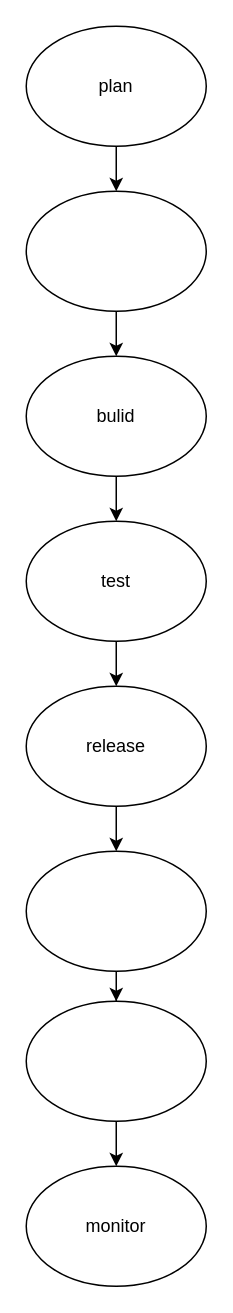
The diagram is 233 pixels wide and 1313 high, and some of its shapes have lost their labels. Here are the shapes that lost their labels. From the top down, the box of each, then its label:
(25, 190, 206, 311): develop
(25, 850, 206, 971): deploy
(25, 1000, 206, 1121): operator
